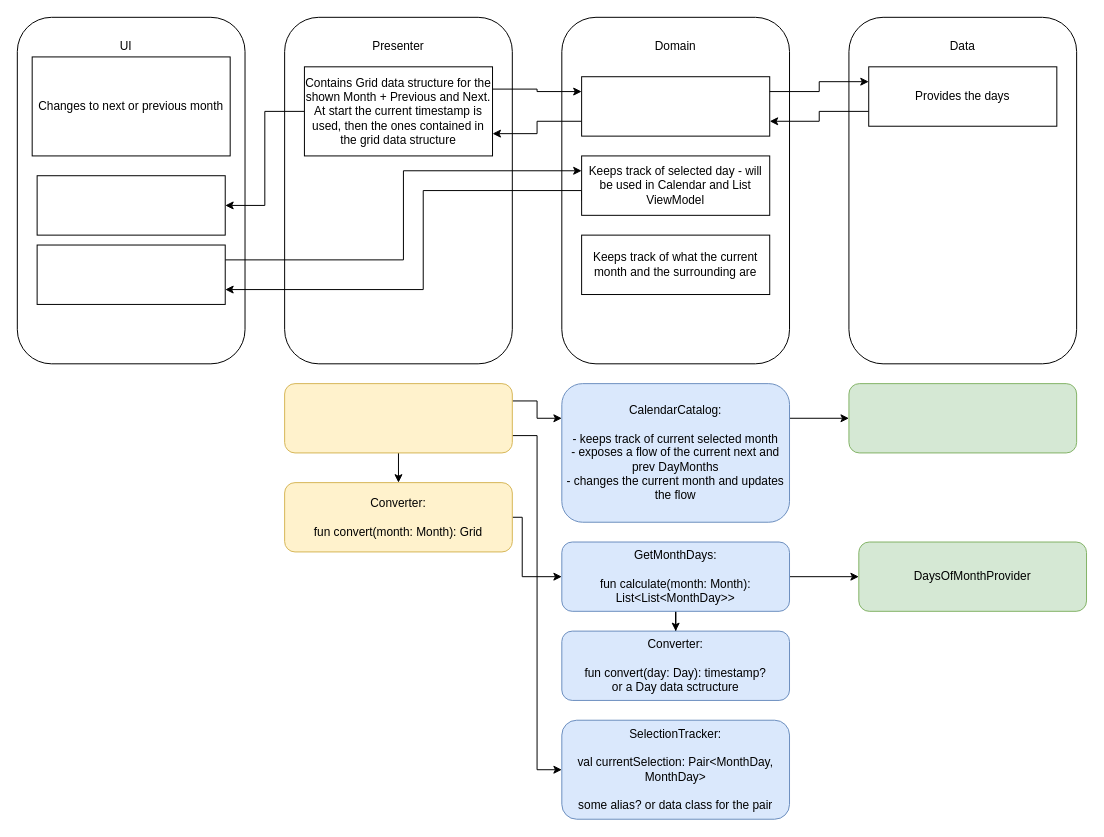
The diagram is 1104 pixels wide and 837 high, and some of its shapes have lost their labels. The centre of each missing label's shape, as x and y in pixels:
Allows day selection: the point at 130,274
Calculates the days for the provided month (timestamp?): the point at 675,106
Shows a "ViewPager" of the month days: the point at 130,205
TimestampProvider: the point at 962,418
ViewModel: StateFlow<Triple<Grid>>: the point at 398,418
